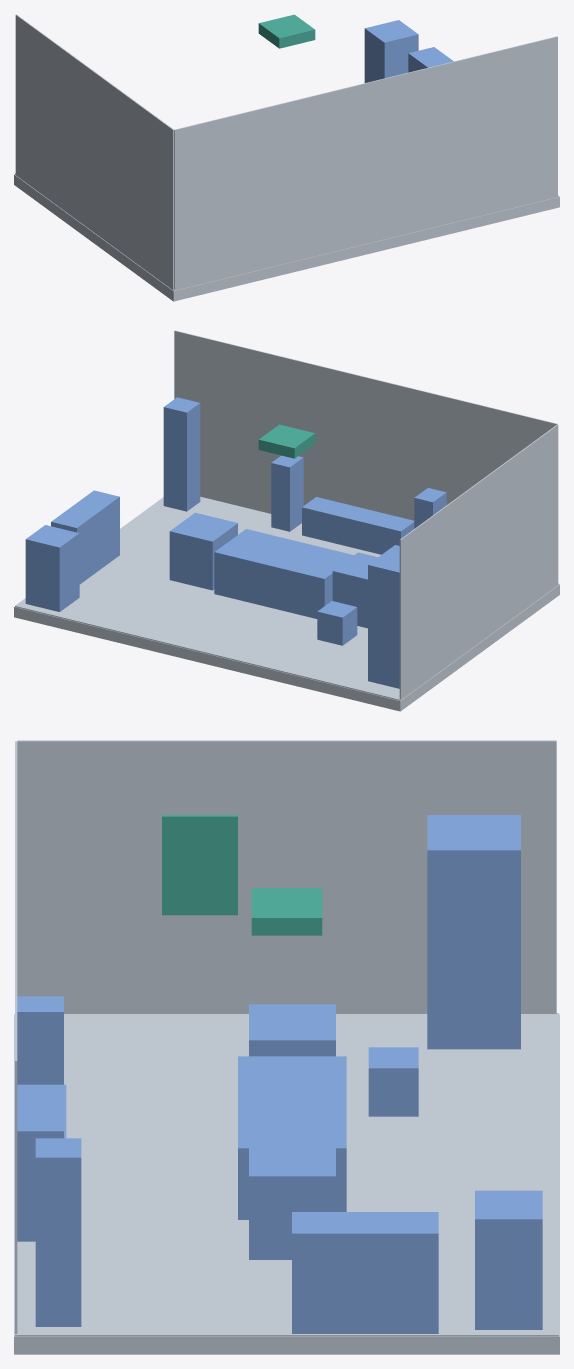
Rendered from livingroom-layout-primary.glb.
3 renders of one model, top to bottom at view 1: azimuth 30°, elevation 25°; view 2: azimuth 150°, elevation 25°; view 3: azimuth 270°, elevation 25°, orthographic. The views are drawn at different scales.
Visible parts, largest first — view 1: wall_north_01_layout, wall_east_01_layout, Display foundation_layout, corner_potted_plant_01_mesh_layout, central_ceiling_light_01_mesh_layout, west_wall_cabinet_01_mesh_layout, floor_01_layout; view 2: wall_north_01_layout, wall_east_01_layout, floor_01_layout, dining_table_01_mesh_layout, Display foundation_layout, corner_potted_plant_01_mesh_layout, tall_fridge_01_mesh_layout, low_tv_stand_01_mesh_layout, floor_lamp_01_mesh_layout, west_wall_cabinet_01_mesh_layout, short_side_armchairs_01_mesh_layout, flanking_speakers_01_mesh_layout (+4 smaller); view 3: wall_east_01_layout, floor_01_layout, tall_fridge_01_mesh_layout, west_wall_cabinet_01_mesh_layout, Display foundation_layout, dining_table_01_mesh_layout, corner_potted_plant_01_mesh_layout, floor_lamp_01_mesh_layout, short_side_armchairs_01_mesh_layout, east_wall_poster_01_mesh_layout, short_side_armchairs_02_mesh_layout, flanking_speakers_02_mesh_layout (+5 smaller).
Boxes of the visible parts, x1,y1,x2,y2 form: wall_north_01_layout: (174, 36, 557, 290); wall_east_01_layout: (15, 14, 174, 289); Display foundation_layout: (14, 174, 559, 301); corner_potted_plant_01_mesh_layout: (364, 20, 418, 82); central_ceiling_light_01_mesh_layout: (258, 14, 315, 48); west_wall_cabinet_01_mesh_layout: (408, 47, 453, 72); floor_01_layout: (15, 173, 558, 290); wall_north_01_layout: (174, 330, 557, 520); wall_east_01_layout: (399, 424, 558, 699); floor_01_layout: (15, 496, 558, 700); dining_table_01_mesh_layout: (214, 529, 353, 618); Display foundation_layout: (14, 584, 559, 711); corner_potted_plant_01_mesh_layout: (25, 525, 79, 611); tall_fridge_01_mesh_layout: (368, 545, 399, 688); low_tv_stand_01_mesh_layout: (302, 497, 414, 554); floor_lamp_01_mesh_layout: (163, 397, 200, 511); west_wall_cabinet_01_mesh_layout: (51, 490, 119, 584); short_side_armchairs_01_mesh_layout: (169, 512, 237, 590); flanking_speakers_01_mesh_layout: (271, 455, 303, 531); wall_east_01_layout: (17, 740, 556, 1013); floor_01_layout: (15, 1013, 558, 1336); tall_fridge_01_mesh_layout: (427, 815, 520, 1049); west_wall_cabinet_01_mesh_layout: (292, 1212, 438, 1333); Display foundation_layout: (14, 1014, 559, 1354); dining_table_01_mesh_layout: (238, 1056, 346, 1219); corner_potted_plant_01_mesh_layout: (475, 1190, 542, 1329); floor_lamp_01_mesh_layout: (35, 1138, 81, 1326); short_side_armchairs_01_mesh_layout: (249, 1140, 335, 1259); east_wall_poster_01_mesh_layout: (162, 815, 237, 915); short_side_armchairs_02_mesh_layout: (249, 1004, 335, 1056); flanking_speakers_02_mesh_layout: (17, 996, 63, 1084).
Size of the model in its own units: 7.02 by 2.96 by 5.02.
